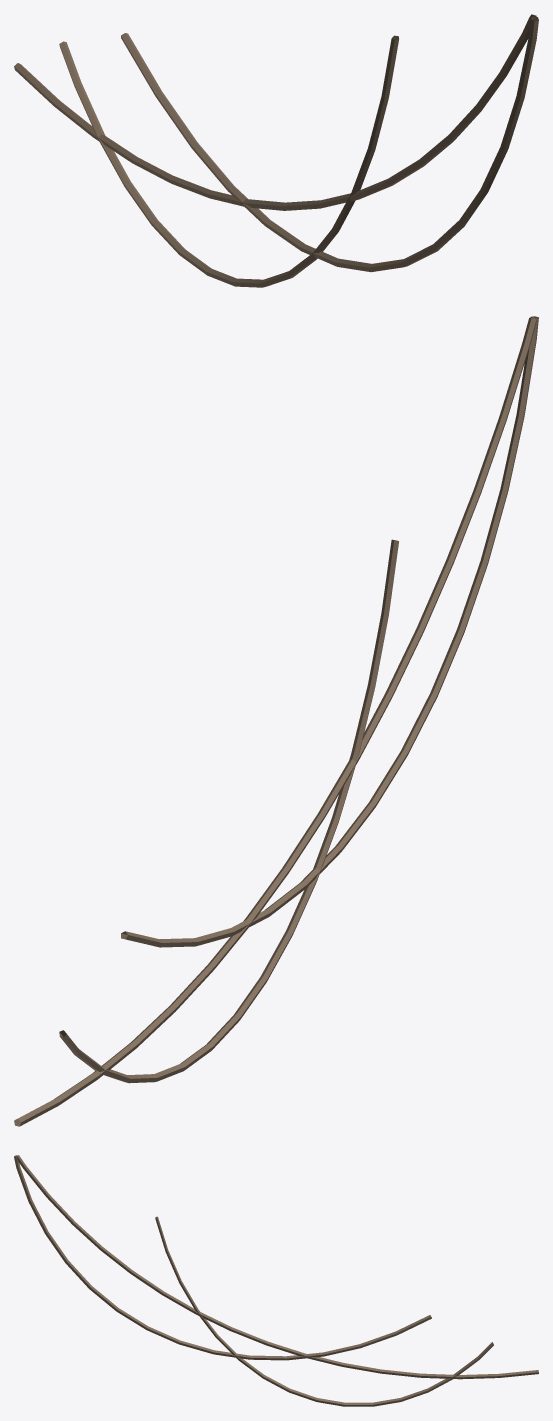
File: SM_Veh_Ship_L_01_Rigging_Front_02.fbx
3 views of the same model, one above another, from view 1: azimuth 30°, elevation 25°; view 2: azimuth 150°, elevation 25°; view 3: azimuth 270°, elevation 25° (orthographic). The views are drawn at different scales.
Parts seen in each view (by area): view 1: SM_Veh_Ship_L_01_Rigging_Front_02; view 2: SM_Veh_Ship_L_01_Rigging_Front_02; view 3: SM_Veh_Ship_L_01_Rigging_Front_02.
Boxes of the visible parts, x1,y1,x2,y2 form: SM_Veh_Ship_L_01_Rigging_Front_02: (14,14,538,287); SM_Veh_Ship_L_01_Rigging_Front_02: (14,316,538,1126); SM_Veh_Ship_L_01_Rigging_Front_02: (14,1155,538,1406).
Bounding box in the file's own units: 8.68 × 566 × 1073.
